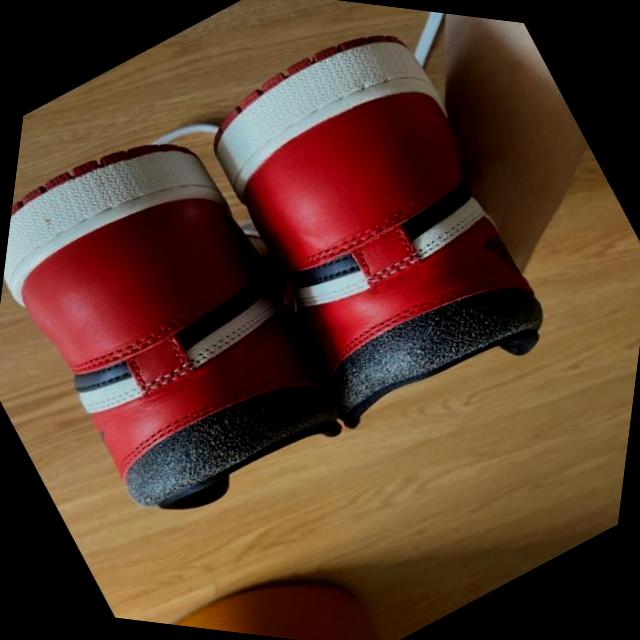nike_original_jordan: (147, 0, 601, 468), (0, 86, 393, 563)
